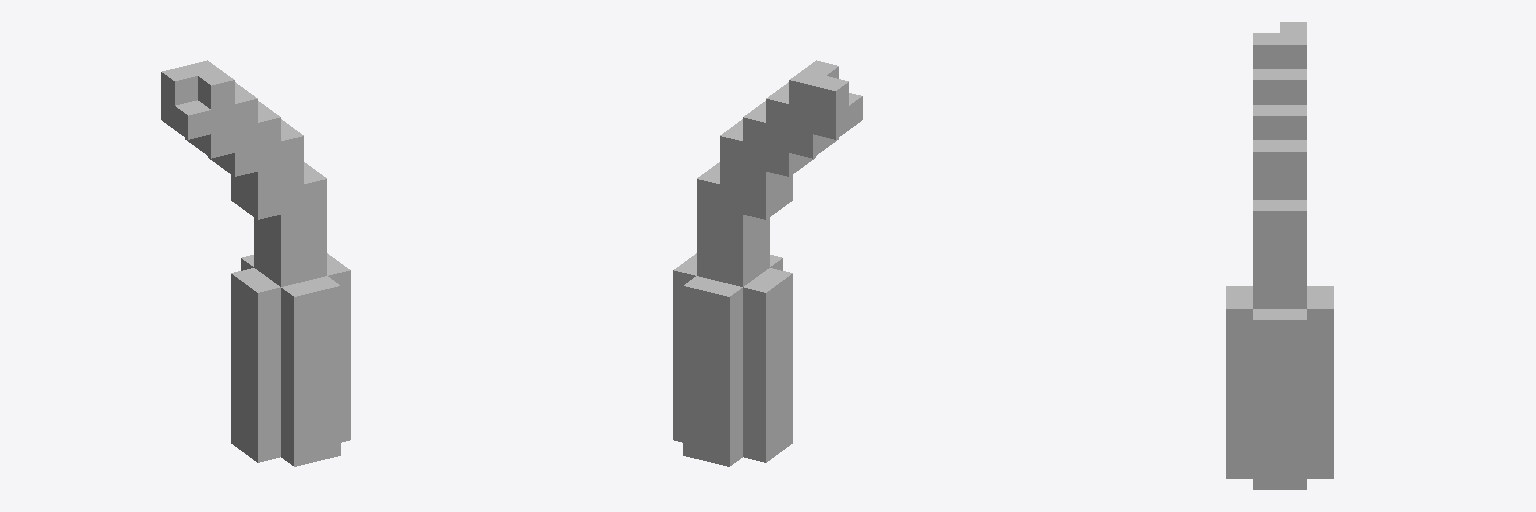
File: welder.obj
3 views of the same model, side by side, from view 1: azimuth 30°, elevation 25°; view 2: azimuth 150°, elevation 25°; view 3: azimuth 270°, elevation 25° (orthographic).
Parts seen in each view (by area): view 1: object 1; view 2: object 1; view 3: object 1.
Boxes of the visible parts, x1,y1,x2,y2 form: object 1: [161, 60, 350, 466]; object 1: [673, 60, 862, 466]; object 1: [1226, 22, 1333, 489].
Bounding box in the file's own units: 0.7 × 1.6 × 0.4.